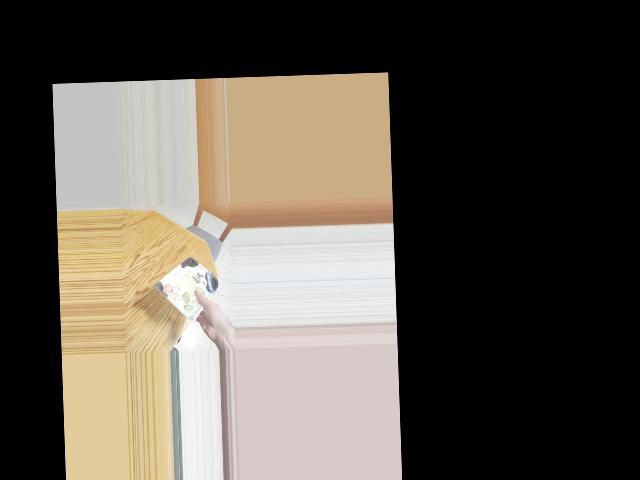cheese: (162, 262, 219, 311)
